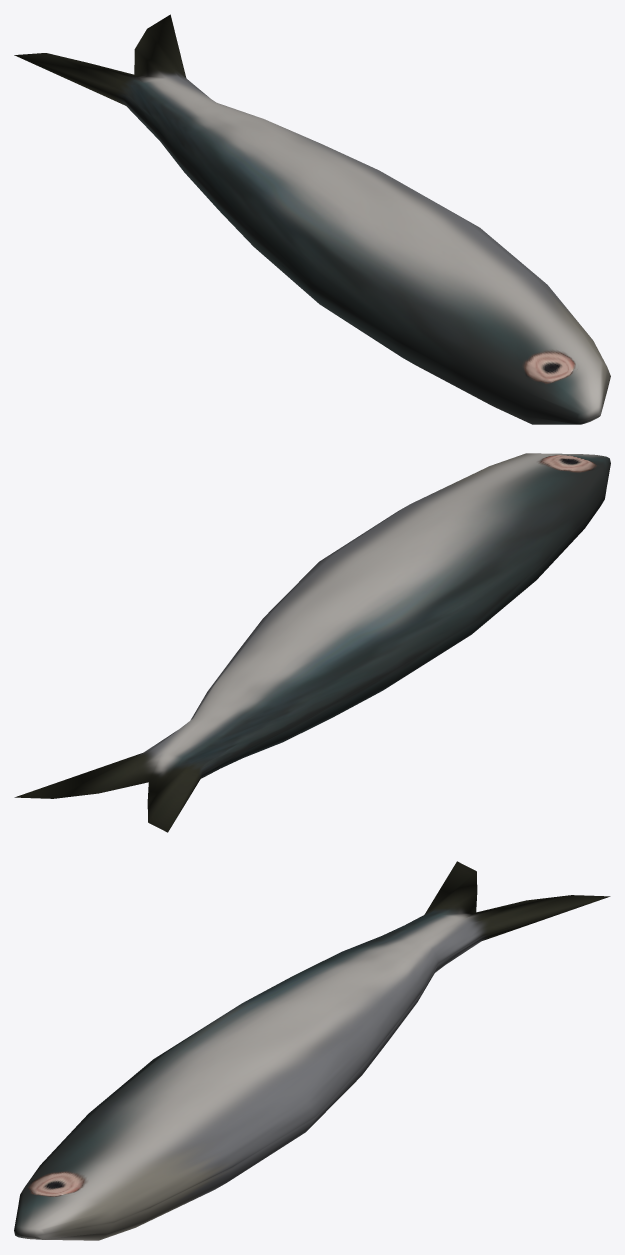
Rendered from sardine.glb.
The picture shows the model from 3 angles, top to bottom: view 1: azimuth 30°, elevation 25°; view 2: azimuth 150°, elevation 25°; view 3: azimuth 330°, elevation 25°; orthographic projection. The views are drawn at different scales.
Visible parts, largest first — view 1: Sardine; view 2: Sardine; view 3: Sardine.
Boxes of the visible parts, x1,y1,x2,y2 form: Sardine: (14,14,610,424); Sardine: (14,453,610,832); Sardine: (14,861,610,1240).
Bounding box in the file's own units: 0.0394 × 0.018 × 0.1975.
1 material, 1 textured.
